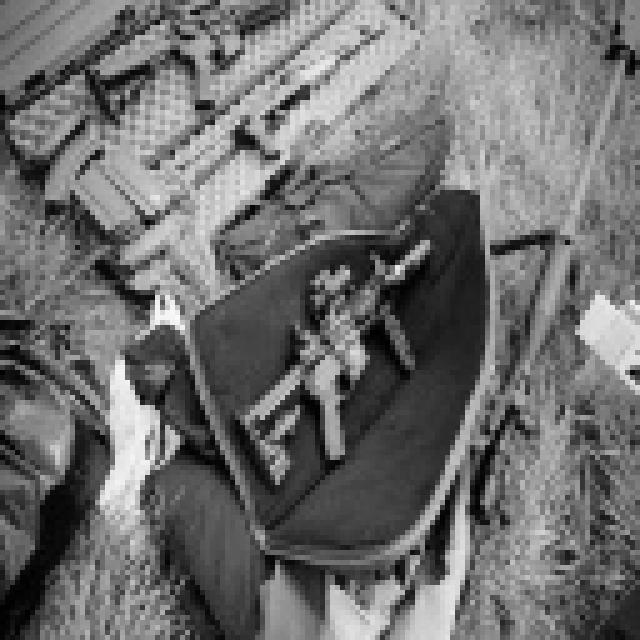Rifle: (219, 210, 503, 488), (155, 5, 409, 191), (74, 8, 301, 122)
